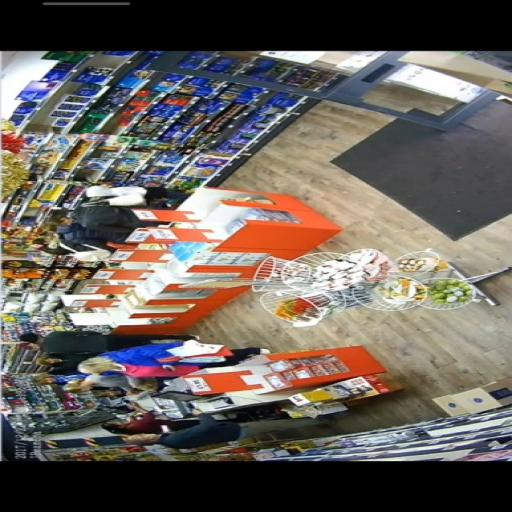workers: (101, 406, 192, 437), (81, 183, 170, 209)
